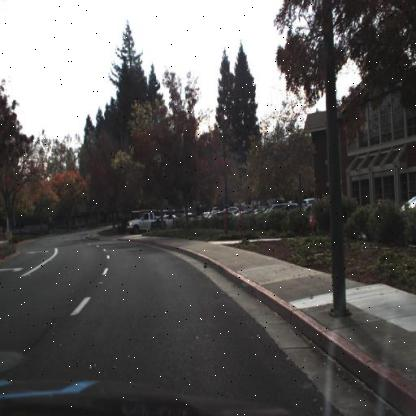car: (125, 210, 176, 235), (308, 206, 326, 232), (303, 196, 317, 212)
